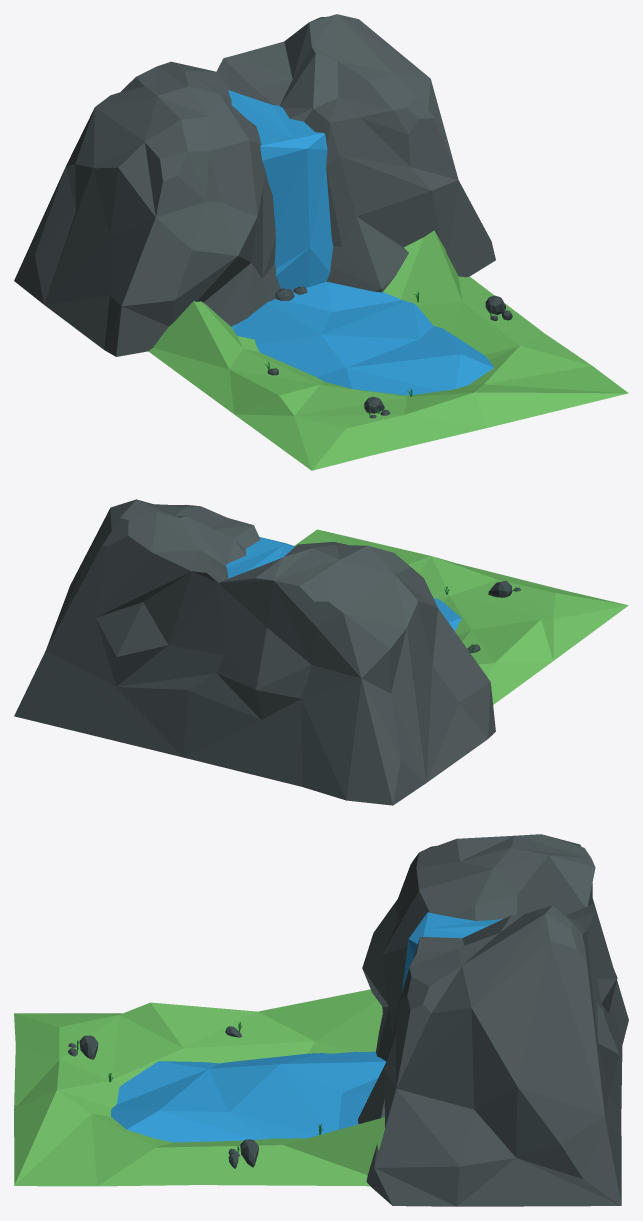
File: Waterfall.fbx
The picture shows the model from 3 angles, top to bottom: view 1: azimuth 30°, elevation 25°; view 2: azimuth 150°, elevation 25°; view 3: azimuth 270°, elevation 25°; orthographic projection. The views are drawn at different scales.
Parts seen in each view (by area): view 1: Waterfall, Pond; view 2: Waterfall, Pond; view 3: Waterfall, Pond.
Boxes of the visible parts, x1=… form: Waterfall: x1=14, y1=14, x2=495, y2=395; Pond: x1=148, y1=230, x2=628, y2=470; Waterfall: x1=14, y1=499, x2=495, y2=805; Pond: x1=294, y1=529, x2=628, y2=704; Waterfall: x1=111, y1=834, x2=628, y2=1206; Pond: x1=14, y1=989, x2=384, y2=1186.
Bounding box in the file's own units: 2020 × 1186 × 2489.
